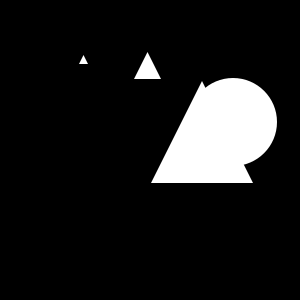rectangle: (189, 78, 277, 166)
triangle: (151, 81, 253, 183), (134, 52, 161, 79), (79, 55, 88, 64)
